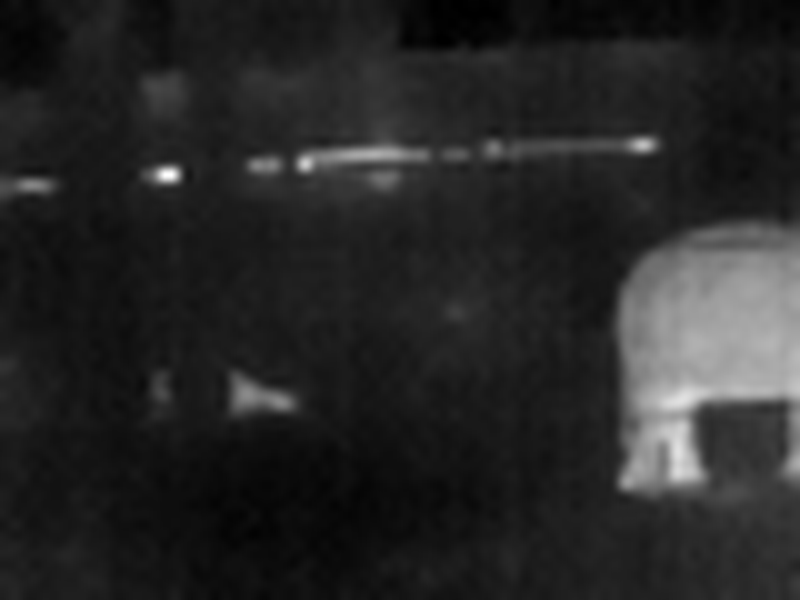elephant: (608, 205, 800, 524)
